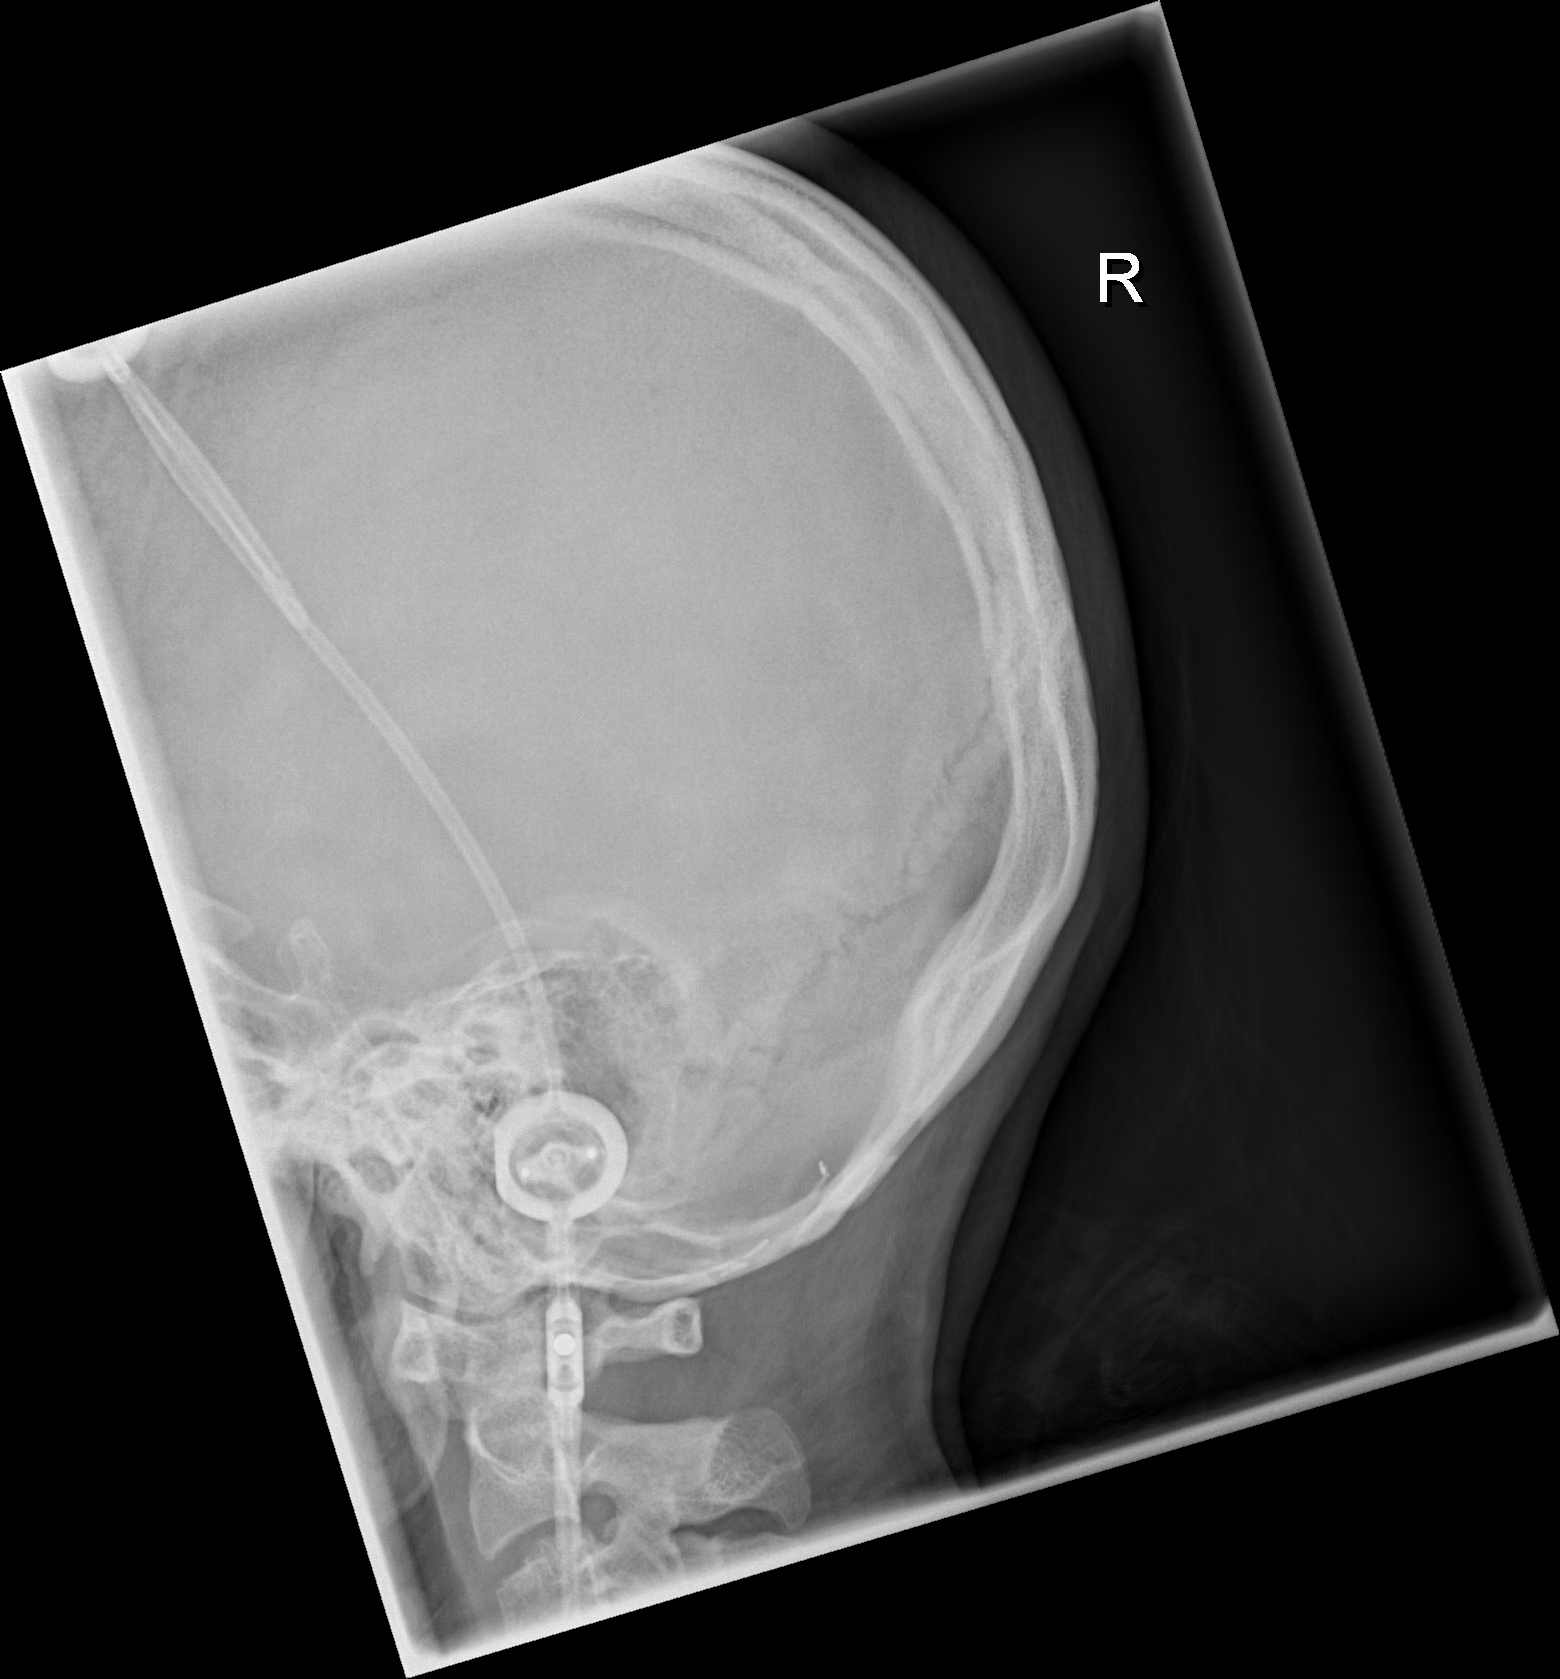proGAV: (482, 1082, 633, 1229)
proGAV Gravitationseinheit: (538, 1287, 595, 1431)
